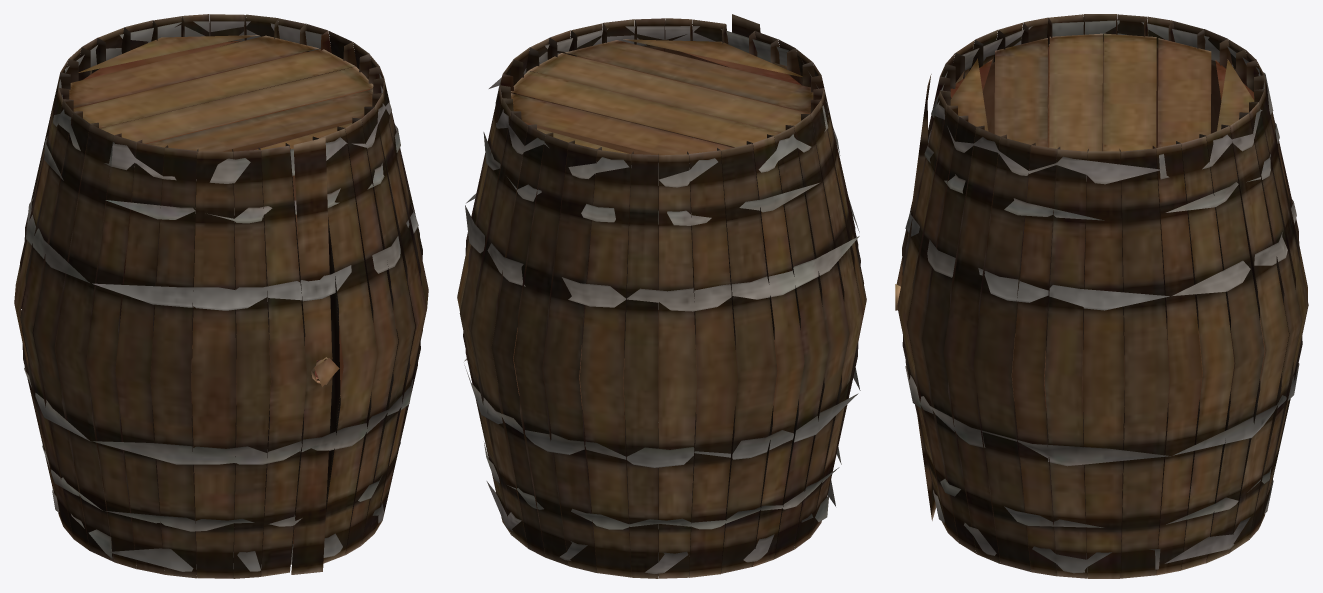
File: winebarrel.glb
3 views of the same model, side by side, from view 1: azimuth 30°, elevation 25°; view 2: azimuth 150°, elevation 25°; view 3: azimuth 270°, elevation 25° (orthographic).
Parts seen in each view (by area): view 1: wine_barrel_01, wine_barrel_01_Lid; view 2: wine_barrel_01, wine_barrel_01_Lid; view 3: wine_barrel_01, wine_barrel_01_Lid.
Boxes of the visible parts, x1,y1,x2,y2 form: wine_barrel_01: (14, 14, 428, 578); wine_barrel_01_Lid: (69, 35, 373, 151); wine_barrel_01: (457, 14, 866, 578); wine_barrel_01_Lid: (511, 39, 813, 155); wine_barrel_01: (896, 14, 1308, 578); wine_barrel_01_Lid: (950, 33, 1254, 151).
Size of the model in its own units: 0.761 by 0.8871 by 0.762.
1 material, 1 textured.
